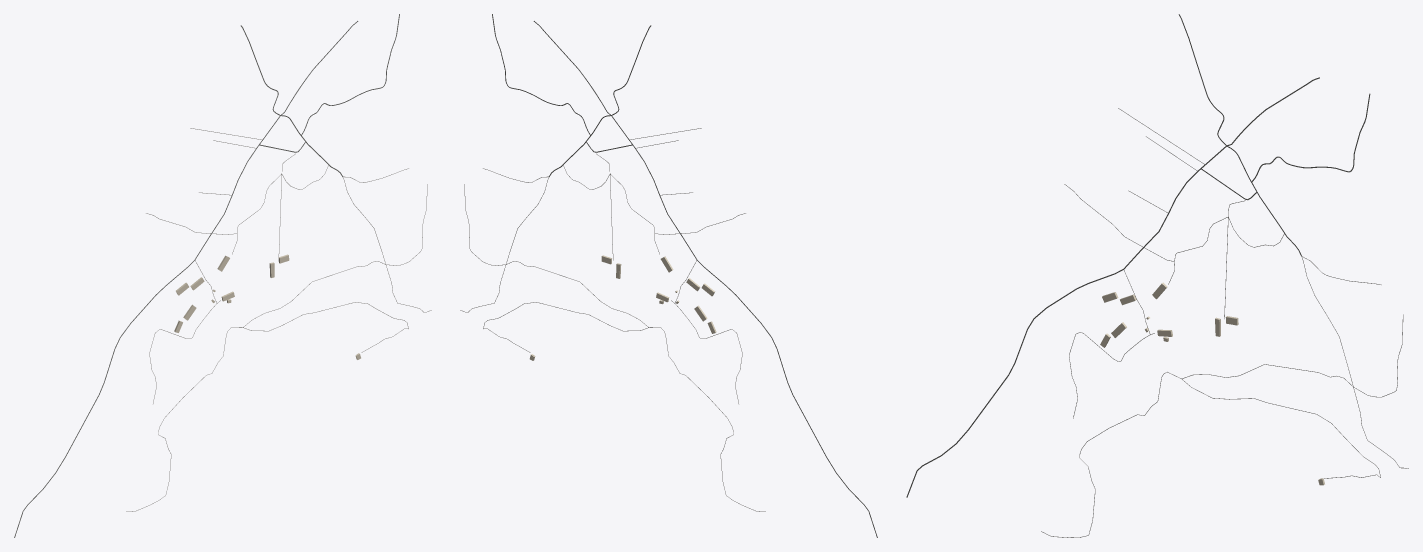
The model's file is historic-palestine-11_26_3533_3207.glb.
3 views of the same model, side by side, from view 1: azimuth 30°, elevation 25°; view 2: azimuth 150°, elevation 25°; view 3: azimuth 330°, elevation 25° (orthographic). The views are drawn at different scales.
Parts seen in each view (by area): view 1: Road .002; view 2: Road .002; view 3: Road .002.
Part boxes in pixels (x1,y1,x2,y2): Road .002: [14, 21, 358, 537]; Road .002: [533, 21, 877, 537]; Road .002: [906, 77, 1319, 497].
Bounding box in the file's own units: 1578 × 1662 × 8.7.
